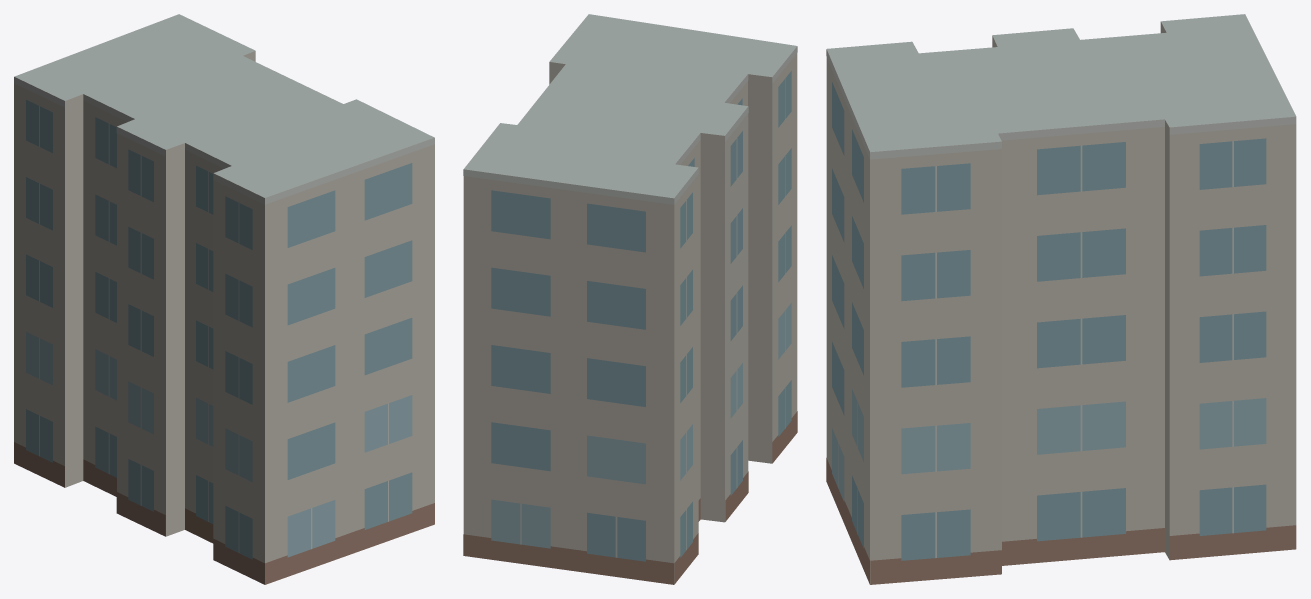
The model's file is survey-upis-32699089.glb.
3 renders of one model, left to right at view 1: azimuth 30°, elevation 25°; view 2: azimuth 150°, elevation 25°; view 3: azimuth 270°, elevation 25°, orthographic. The views are drawn at different scales.
Visible parts, largest first — view 1: survey-upis-32699089.tmp; view 2: survey-upis-32699089.tmp; view 3: survey-upis-32699089.tmp.
Boxes of the visible parts, box(x1,y1,x2,y2) form: survey-upis-32699089.tmp: box(14, 14, 434, 584); survey-upis-32699089.tmp: box(463, 14, 797, 584); survey-upis-32699089.tmp: box(826, 14, 1296, 584).
Bounding box in the file's own units: 9.8 × 14.3 × 14.09.
